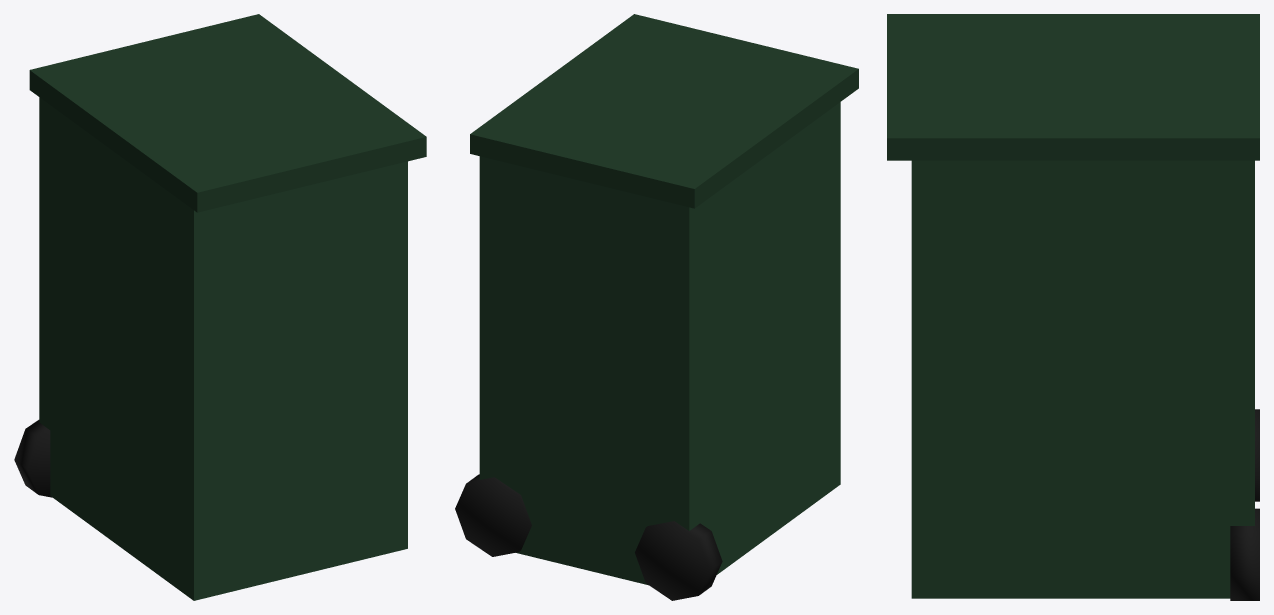
File: SM_Bin_0_Wood.glb
3 renders of one model, left to right at view 1: azimuth 30°, elevation 25°; view 2: azimuth 150°, elevation 25°; view 3: azimuth 270°, elevation 25°, orthographic. The views are drawn at different scales.
Visible parts, largest first — view 1: SM_Bin_0_Wood; view 2: SM_Bin_0_Wood; view 3: SM_Bin_0_Wood.
Part boxes in pixels (bbox=[...]): SM_Bin_0_Wood: bbox=[14, 14, 426, 600]; SM_Bin_0_Wood: bbox=[455, 14, 858, 600]; SM_Bin_0_Wood: bbox=[887, 14, 1259, 600].
Size of the model in its own units: 0.68 by 1.07 by 0.76.
